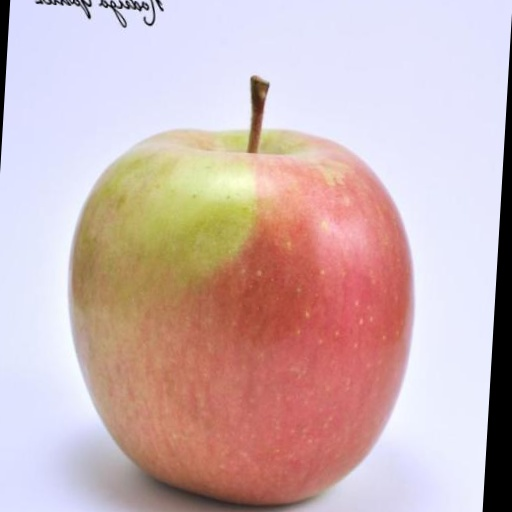fruit: (69, 81, 412, 504)
